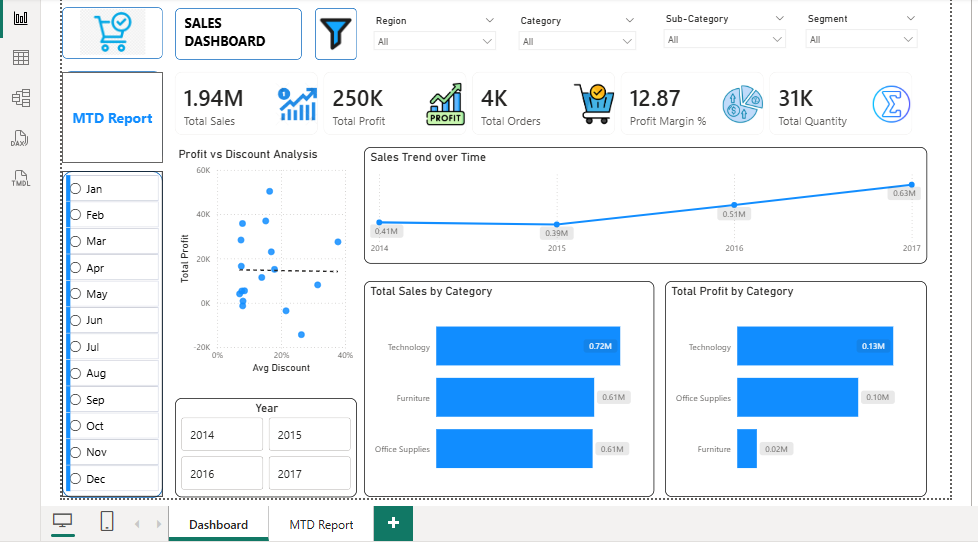

Layout of this report page (visuals, bound fields, positions):
{"tool":"powerbi","page":{"name":"Dashboard","canvas":[1280,720],"ordinal":0},"visuals":[{"type":"shape","box":[0,13,145.4,74.9],"z":0},{"type":"shape","box":[0,105.1,145.4,132.5],"z":1000},{"type":"shape","box":[0,249.1,145.4,470.9],"z":2000},{"type":"listSlicer","fields":{"Values":["Date Table.Month"]},"box":[0,249.1,145.4,469.4],"z":3000},{"type":"cardVisual","fields":{"Data":["retail_sales_clean_data.Total Sales","retail_sales_clean_data.Total Profit","retail_sales_clean_data.Total Orders","retail_sales_clean_data.Profit Margin %","Sum(retail_sales_clean_data.Quantity)"]},"box":[145.4,89.3,1100.2,125.3],"z":4000},{"type":"slicer","fields":{"Values":["retail_sales_clean_data.Region"]},"box":[434.9,15.8,204.5,72],"z":5000},{"type":"slicer","fields":{"Values":["retail_sales_clean_data.Category"]},"box":[643.7,15.8,197.3,70.6],"z":6000},{"type":"slicer","fields":{"Values":["retail_sales_clean_data.Sub-Category"]},"box":[852.5,13,204.5,73.4],"z":7000},{"type":"shape","box":[364.3,14.4,60.5,74.9],"z":8000},{"type":"image","box":[364.3,15.8,60.5,72],"z":9000},{"type":"shape","box":[162.7,14.4,182.9,74.9],"z":10000},{"type":"textbox","box":[171.4,18.7,165.6,63.4],"z":11000},{"type":"lineChart","title":"Sales Trend over Time","fields":{"Y":["retail_sales_clean_data.Total Sales"],"Category":["Date Table.Year"]},"box":[434.9,214.6,810.7,168.5],"z":12000},{"type":"advancedSlicerVisual","fields":{"Values":["Date Table.Year"]},"box":[162.7,576,262.1,142.6],"z":13000},{"type":"image","box":[0,15.8,145.4,66.2],"z":14000},{"type":"pageNavigator","box":[0,106.6,145.4,131],"z":15000},{"type":"slicer","fields":{"Values":["retail_sales_clean_data.Segment"]},"box":[1057,13,188.6,73.4],"z":16000},{"type":"clusteredBarChart","fields":{"Category":["retail_sales_clean_data.Category"],"Y":["retail_sales_clean_data.Total Sales"]},"box":[434.9,407.5,417.6,311],"z":17000},{"type":"clusteredBarChart","fields":{"Category":["retail_sales_clean_data.Category"],"Y":["retail_sales_clean_data.Total Profit"]},"box":[868.3,407.5,377.3,311],"z":18000},{"type":"scatterChart","title":"Profit vs Discount Analysis","fields":{"X":["retail_sales_clean_data.Avg Discount"],"Y":["retail_sales_clean_data.Total Profit"],"Category":["retail_sales_clean_data.Sub-Category"]},"box":[162.7,214.6,262.1,331.2],"z":19000}]}

Visuals, with their boxes on the page's 1280x720 design canvas (x1, y1, x2, y2). These are canvas units, not pixel positions in the 978x542 screenshot, which may show the page scaled, cropped or inside an application window:
shape: box(0, 13, 145, 88)
shape: box(0, 105, 145, 238)
shape: box(0, 249, 145, 720)
listSlicer - Date Table.Month: box(0, 249, 145, 718)
cardVisual - retail_sales_clean_data.Total Sales x retail_sales_clean_data.Total Profit: box(145, 89, 1246, 215)
slicer - retail_sales_clean_data.Region: box(435, 16, 639, 88)
slicer - retail_sales_clean_data.Category: box(644, 16, 841, 86)
slicer - retail_sales_clean_data.Sub-Category: box(852, 13, 1057, 86)
shape: box(364, 14, 425, 89)
image: box(364, 16, 425, 88)
shape: box(163, 14, 346, 89)
textbox: box(171, 19, 337, 82)
"Sales Trend over Time" lineChart: box(435, 215, 1246, 383)
advancedSlicerVisual - Date Table.Year: box(163, 576, 425, 719)
image: box(0, 16, 145, 82)
pageNavigator: box(0, 107, 145, 238)
slicer - retail_sales_clean_data.Segment: box(1057, 13, 1246, 86)
clusteredBarChart - retail_sales_clean_data.Category x retail_sales_clean_data.Total Sales: box(435, 408, 852, 718)
clusteredBarChart - retail_sales_clean_data.Category x retail_sales_clean_data.Total Profit: box(868, 408, 1246, 718)
"Profit vs Discount Analysis" scatterChart: box(163, 215, 425, 546)
